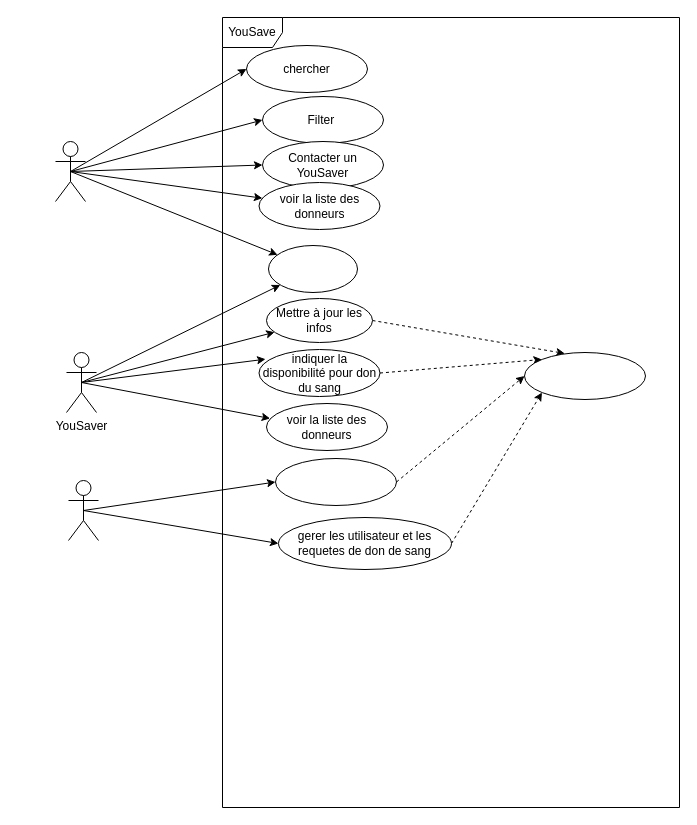
This 697x825 diagram has some shape labels left out. The box of each missing label's shape, as (x1, y1, x2, y2) in pixels:
Admin: (68, 480, 98, 540)
Authentification: (524, 352, 646, 400)
Person besion sang: (54, 140, 86, 202)
s'inscrire sur YouSave: (268, 244, 358, 292)
se connecter: (274, 458, 396, 506)
